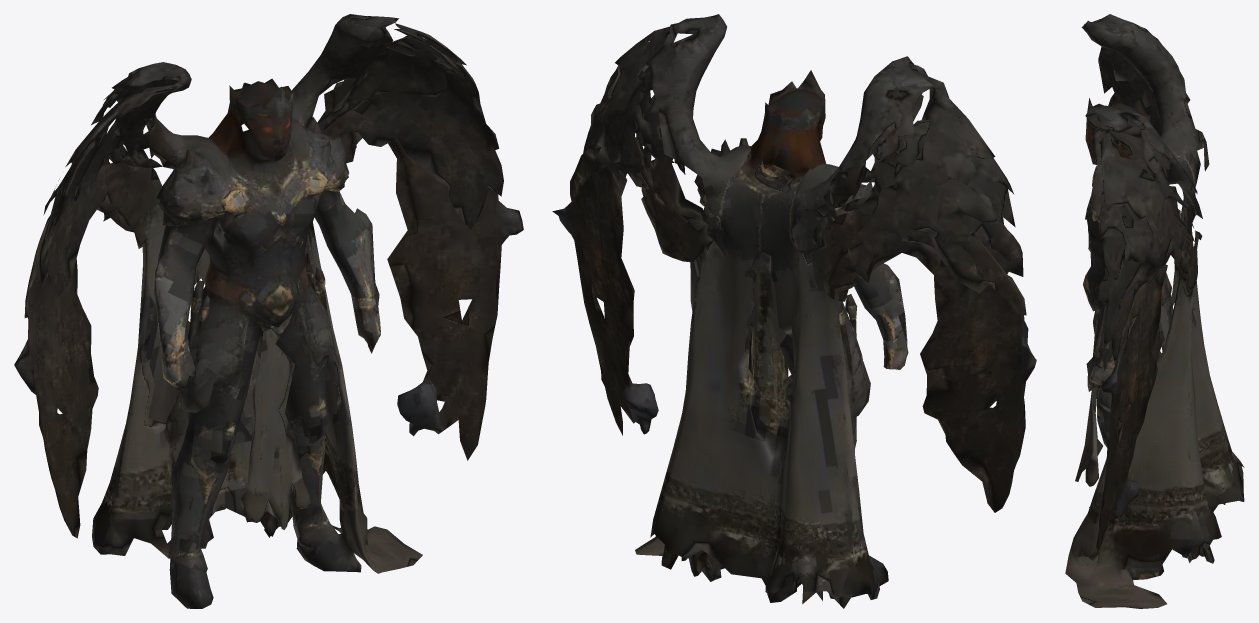
Rendered from abaddon.glb.
The picture shows the model from 3 angles, left to right: view 1: azimuth 30°, elevation 25°; view 2: azimuth 150°, elevation 25°; view 3: azimuth 270°, elevation 25°; orthographic projection. The views are drawn at different scales.
Parts seen in each view (by area): view 1: geometry_0; view 2: geometry_0; view 3: geometry_0.
Boxes of the visible parts, bbox=[...] form: geometry_0: bbox=[14, 14, 523, 608]; geometry_0: bbox=[552, 14, 1036, 608]; geometry_0: bbox=[1065, 14, 1244, 608].
Bounding box in the file's own units: 0.9502 × 0.9837 × 0.3305.
1 material, 1 textured.
